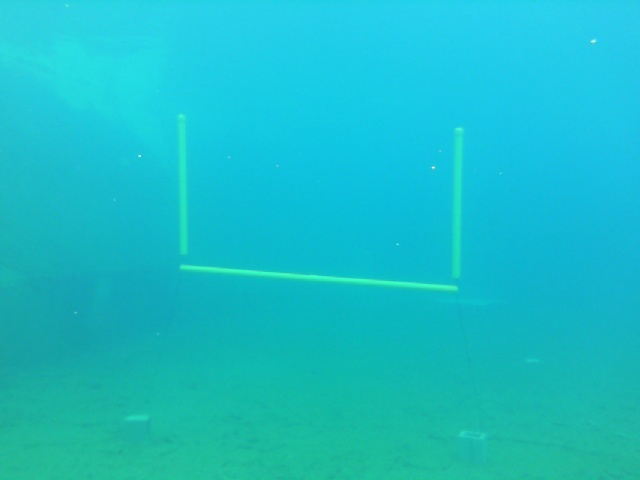channel: (175, 112, 467, 294)
